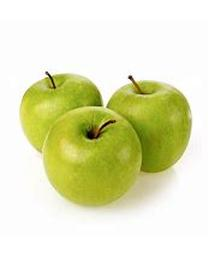apple: (41, 106, 142, 206), (105, 74, 191, 172), (18, 71, 102, 153)
